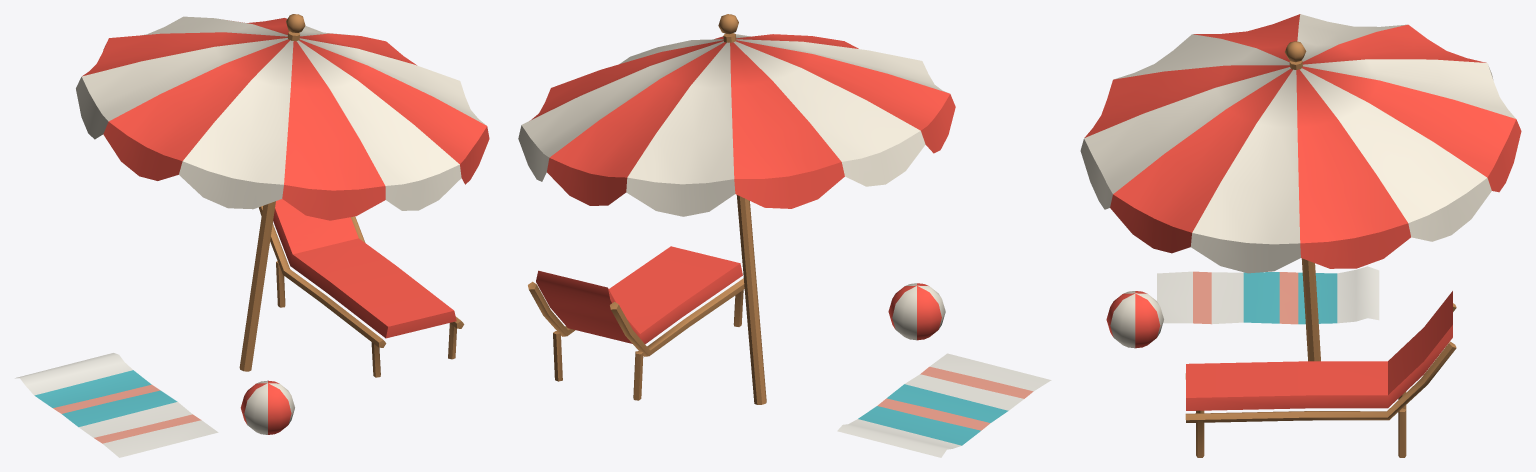
Rendered from beach-umbrella.glb.
3 renders of one model, left to right at view 1: azimuth 30°, elevation 25°; view 2: azimuth 150°, elevation 25°; view 3: azimuth 270°, elevation 25°, orthographic. The views are drawn at different scales.
Parts seen in each view (by area): view 1: Beach umbrella Parasol coral, Beach umbrella Parasol cream, Beach umbrella Beach towel, Beach umbrella Beach wood; view 2: Beach umbrella Parasol coral, Beach umbrella Parasol cream, Beach umbrella Beach towel, Beach umbrella Beach wood; view 3: Beach umbrella Parasol coral, Beach umbrella Parasol cream, Beach umbrella Beach towel, Beach umbrella Beach wood.
Boxes of the visible parts, <box> form: Beach umbrella Parasol coral: <box>82,18,489,434</box>; Beach umbrella Parasol cream: <box>76,16,486,434</box>; Beach umbrella Beach towel: <box>15,353,218,457</box>; Beach umbrella Beach wood: <box>239,14,464,377</box>; Beach umbrella Parasol coral: <box>530,34,955,344</box>; Beach umbrella Parasol cream: <box>518,34,948,340</box>; Beach umbrella Beach towel: <box>837,353,1051,457</box>; Beach umbrella Beach wood: <box>528,14,766,404</box>; Beach umbrella Parasol coral: <box>1084,14,1521,410</box>; Beach umbrella Parasol cream: <box>1080,14,1515,348</box>; Beach umbrella Beach towel: <box>1157,266,1379,324</box>; Beach umbrella Beach wood: <box>1185,41,1456,457</box>.
Size of the model in its own units: 3.48 by 2.86 by 3.06.
